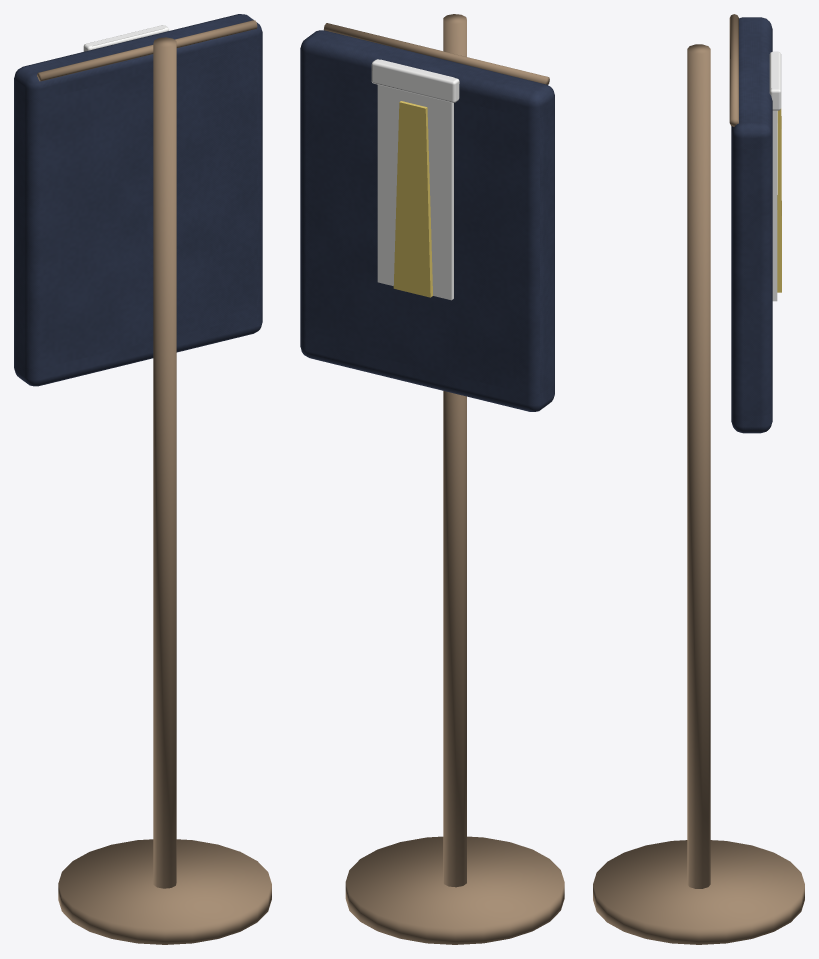
File: escena.casa.ropa_entrevista.fbx
3 renders of one model, left to right at view 1: azimuth 30°, elevation 25°; view 2: azimuth 150°, elevation 25°; view 3: azimuth 270°, elevation 25°, orthographic. The views are drawn at different scales.
Parts seen in each view (by area): view 1: Chaqueta, Pie, Base, Colgador; view 2: Chaqueta, Base, Pie, Camisa, Corbata, Cuello, Colgador; view 3: Pie, Base, Chaqueta, Camisa, Colgador, Corbata, Cuello.
Boxes of the visible parts, box(x1,y1,x2,y2) form: Chaqueta: box(14, 14, 262, 386); Pie: box(153, 37, 176, 888); Base: box(58, 839, 271, 944); Colgador: box(37, 20, 257, 81); Chaqueta: box(300, 30, 554, 411); Base: box(345, 836, 564, 944); Pie: box(443, 14, 466, 887); Camisa: box(377, 59, 454, 300); Corbata: box(393, 101, 432, 297); Cuello: box(371, 59, 459, 102); Colgador: box(323, 23, 549, 84); Pie: box(687, 44, 710, 888); Base: box(593, 840, 804, 944); Chaqueta: box(731, 17, 772, 433); Camisa: box(771, 53, 777, 301); Colgador: box(729, 14, 738, 126); Corbata: box(777, 108, 781, 292); Cuello: box(769, 51, 781, 110).
Size of the model in its own units: 0.46 by 1.6 by 0.36.
Materials: 4 (1 with a texture image).
